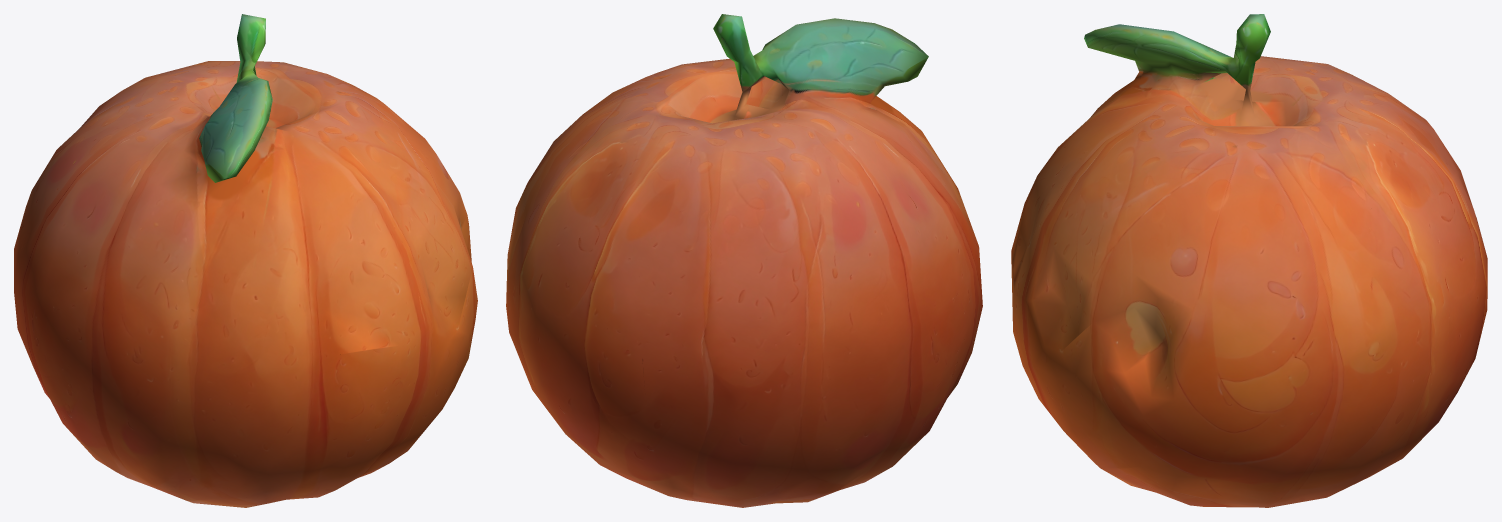
File: orangeMesh.fbx
3 views of the same model, side by side, from view 1: azimuth 30°, elevation 25°; view 2: azimuth 150°, elevation 25°; view 3: azimuth 270°, elevation 25° (orthographic). The views are drawn at different scales.
Parts seen in each view (by area): view 1: orange_Mesh; view 2: orange_Mesh; view 3: orange_Mesh.
Boxes of the visible parts, left/top/right/bottom form: orange_Mesh: left=14, top=14, right=477, bottom=507; orange_Mesh: left=506, top=14, right=982, bottom=507; orange_Mesh: left=1011, top=14, right=1487, bottom=507.
Size of the model in its own units: 112 by 119 by 112.
